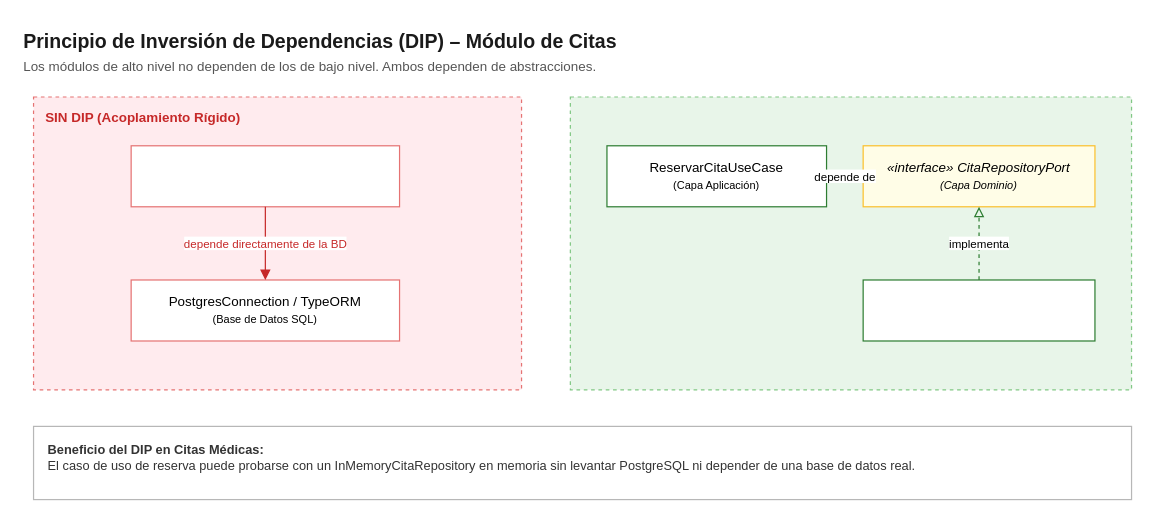
Image size: 1153x521. Some labels were removed from this diagram. Each missing label, with the box of its shape:
CON DIP (Clean Architecture): (569, 96, 1132, 390)
PostgresCitaRepository (Capa Infraestructura): (862, 279, 1095, 341)
ReservarCitaUseCase (Lógica de Negocio): (130, 145, 400, 207)
